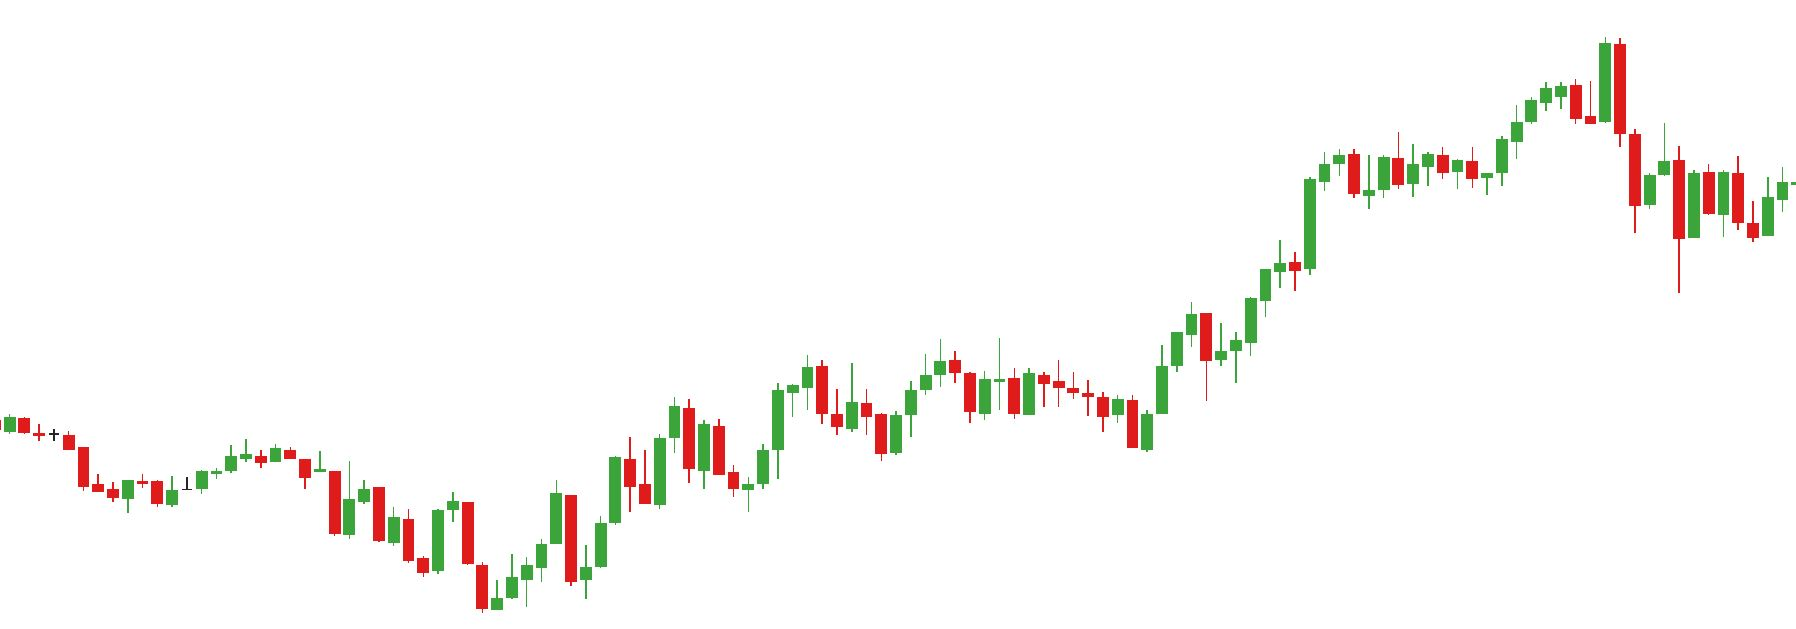buy: (415, 535, 535, 629)
